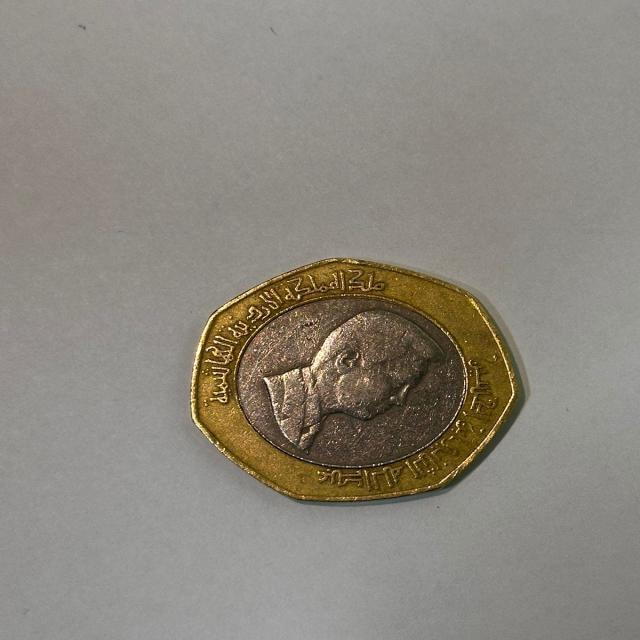50-coins: (160, 254, 552, 512)
